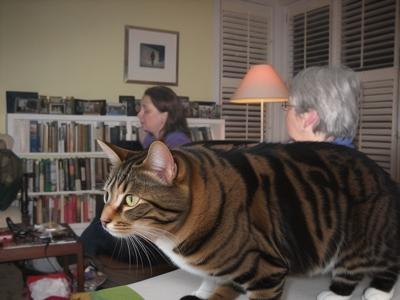cat: (95, 140, 400, 300)
person: (152, 66, 362, 300), (82, 85, 204, 294)
